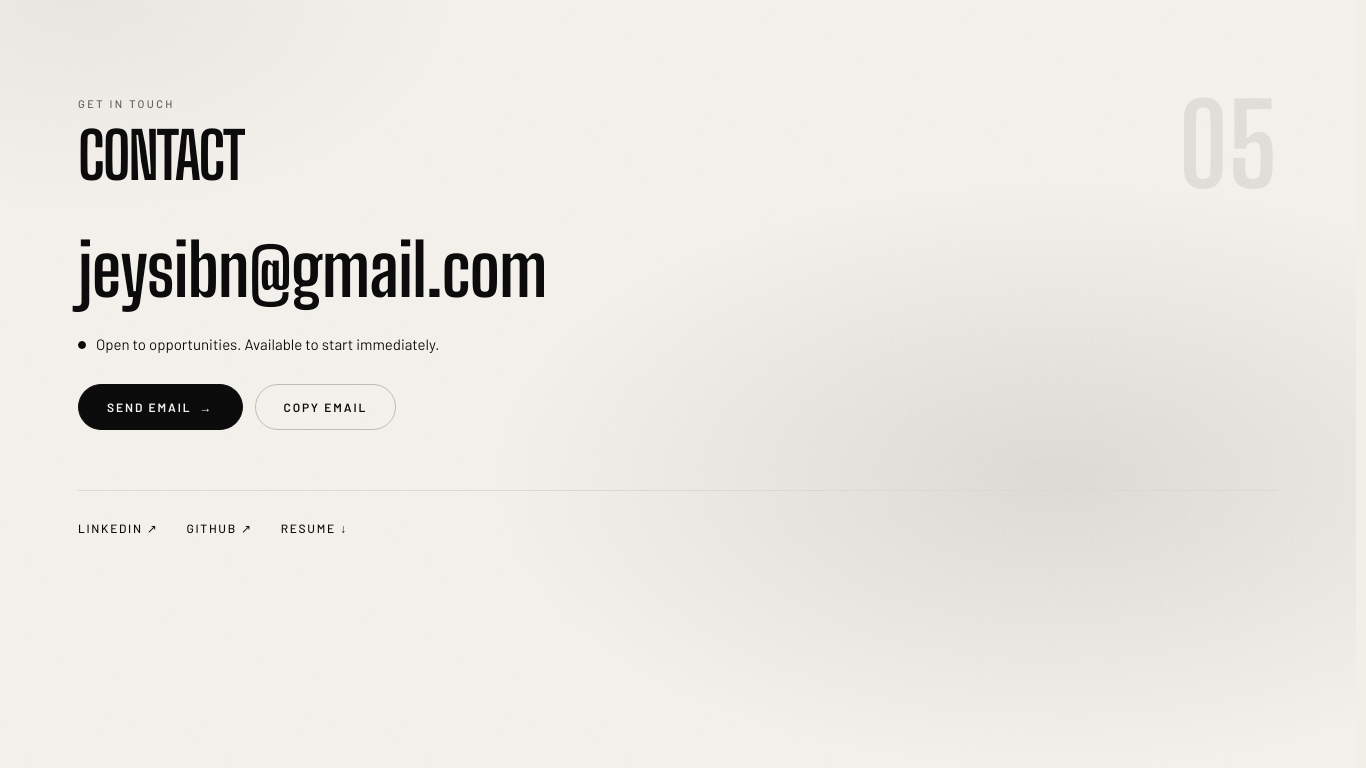
Test case: Contact › copies the canonical email and announces copied feedback
Click the button "Copy email" at {"x": 325, "y": 407}, box [254,384,396,430]
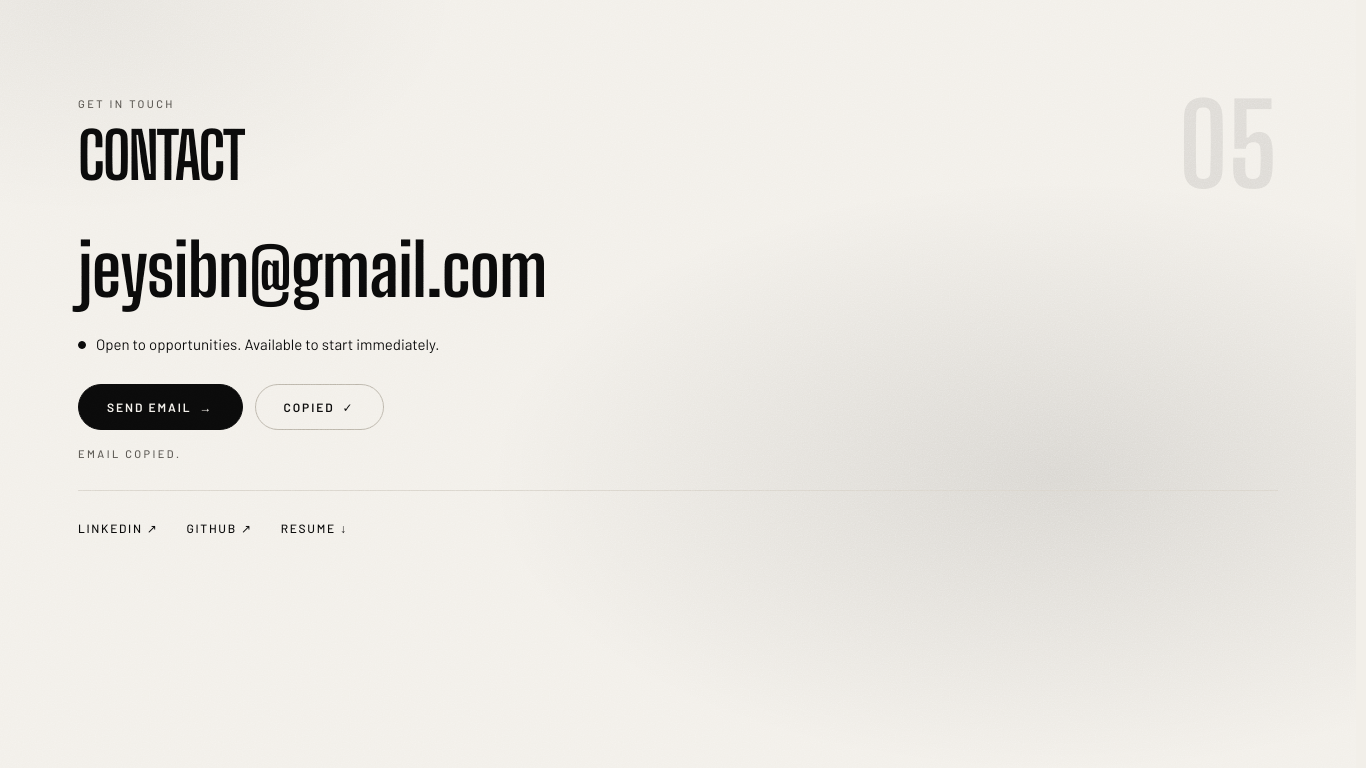
Result: the button with aria-label "Email copied" shows "Copied" at [254,384,384,430]
Result: the text "Email copied." is shown at [78,446,181,462]
